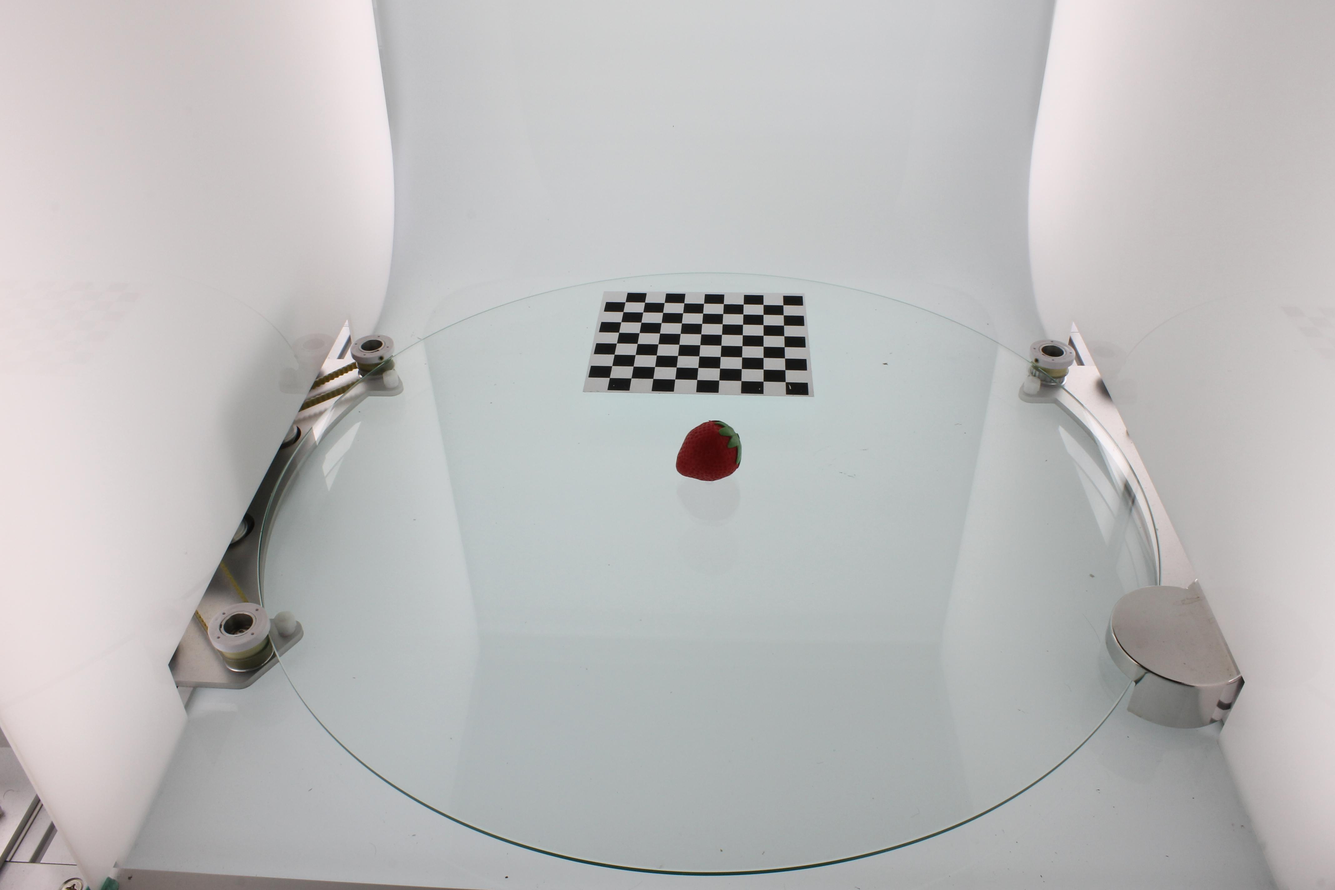strawberry: (676, 421, 741, 481)
